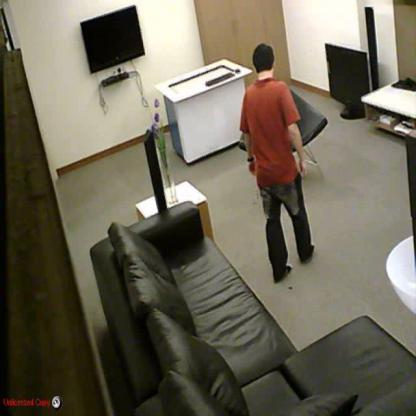Person: (240, 41, 315, 284)
